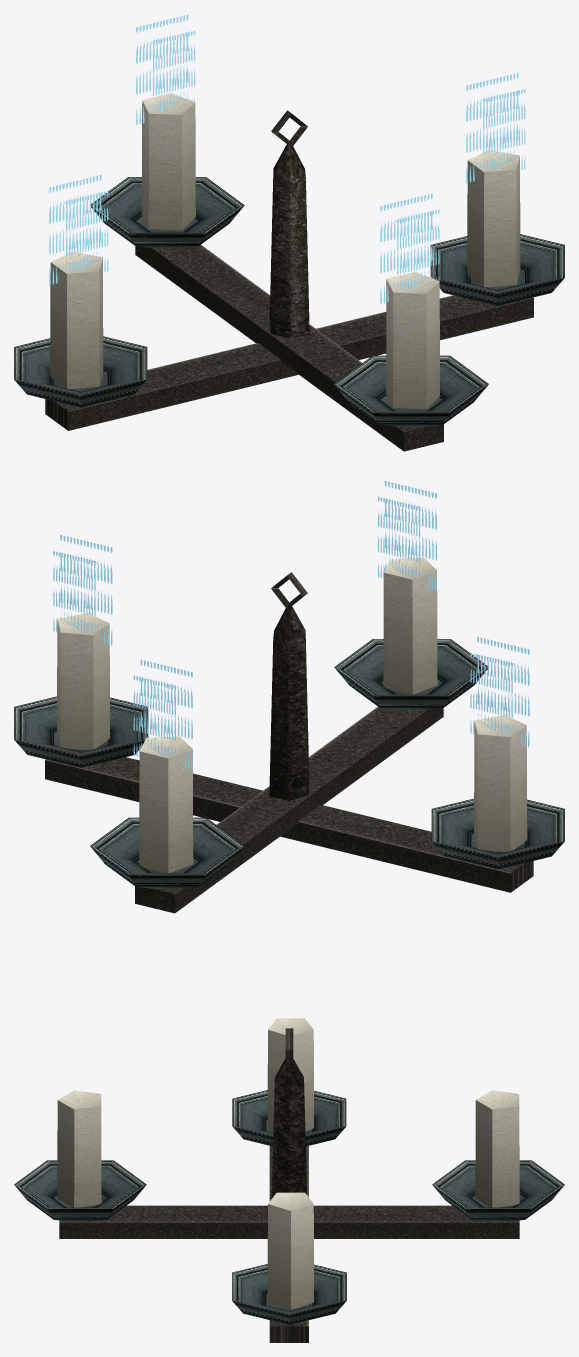
The model's file is mm9_deco_chandelier3.glb.
3 views of the same model, one above another, from view 1: azimuth 30°, elevation 25°; view 2: azimuth 150°, elevation 25°; view 3: azimuth 270°, elevation 25° (orthographic). The views are drawn at different scales.
Parts seen in each view (by area): view 1: Chandelier3; view 2: Chandelier3; view 3: Chandelier3.
Part boxes in pixels (x1,y1,x2,y2): Chandelier3: [14, 14, 564, 451]; Chandelier3: [14, 481, 564, 913]; Chandelier3: [14, 1018, 564, 1342].
Bounding box in the file's own units: 1.63 × 0.7197 × 1.65.
Materials: 3 (3 with a texture image).
